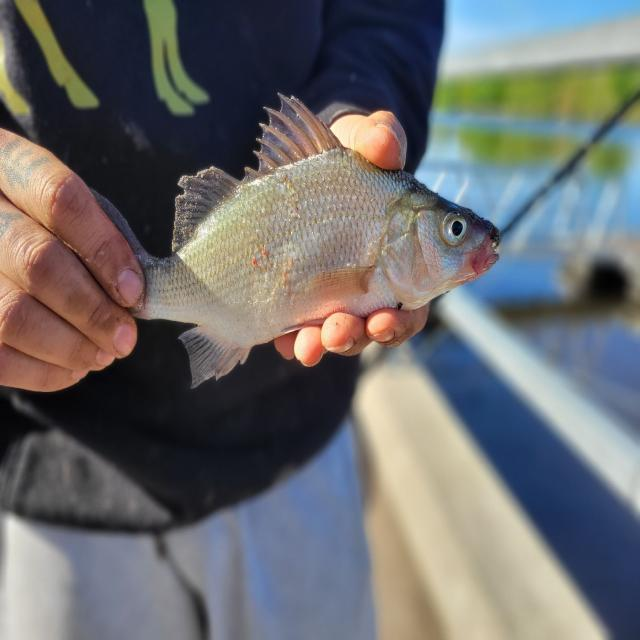Perch - White: (92, 95, 500, 386)
